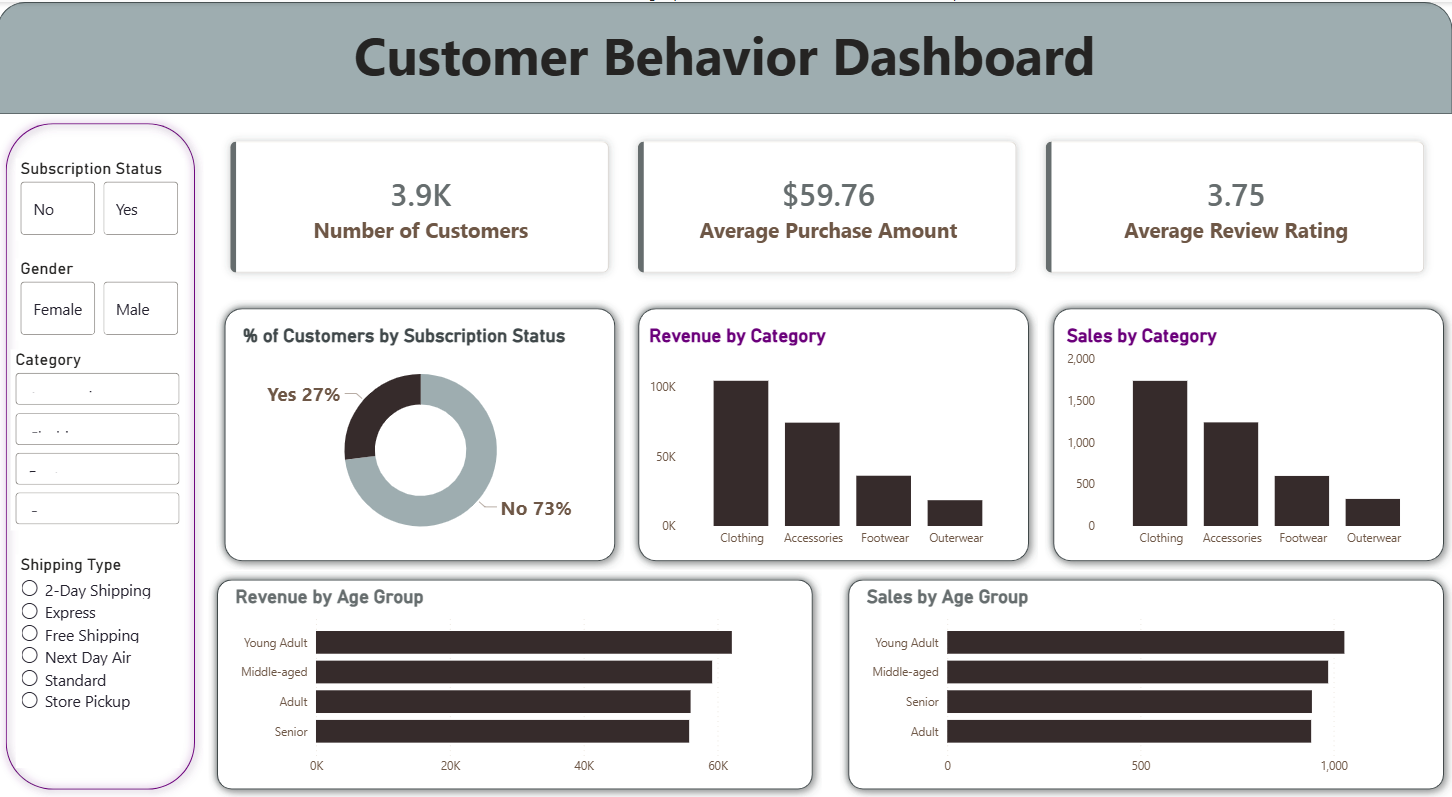

The dashboard page shown, as its layout file describes it:
{"tool":"powerbi","page":{"name":"Page 1","canvas":[1500,820],"ordinal":0},"visuals":[{"type":"cardVisual","fields":{"Data":["public customer.Number of Customers","public customer.Average Purchase Amount","public customer.Average Review Rating"]},"box":[212.9,115.3,1286.5,191.6],"z":2000},{"type":"shape","box":[218.3,585.6,631.7,234.2],"z":2500,"group":"g1"},{"type":"shape","box":[0,0,1499.4,115.3],"z":3000},{"type":"textbox","box":[0,12.4,1499.4,102.9],"z":4000},{"type":"shape","box":[225.4,307,420.5,278.6],"z":5000},{"type":"donutChart","title":"% of Customers by Subscription Status","fields":{"Category":["public customer.subscription_status"],"Y":["Sum(public customer.customer_id)"]},"box":[248.4,331.8,376.2,237.8],"z":6000},{"type":"shape","box":[1078.9,307,420.5,278.6],"z":7000},{"type":"shape","box":[652.1,307,420.5,278.6],"z":8000},{"type":"clusteredColumnChart","title":"Revenue by Category","fields":{"Y":["Sum(public customer.purchase_amount)"],"Category":["public customer.category"]},"box":[667.2,331.8,385.1,237.8],"z":9000},{"type":"clusteredColumnChart","title":"Sales by Category","fields":{"Y":["Sum(public customer.customer_id)"],"Category":["public customer.category"]},"box":[1096.6,331.8,385.1,237.8],"z":10000},{"type":"shape","box":[0,115.3,212.9,704.5],"z":11000},{"type":"advancedSlicerVisual","fields":{"Values":["public customer.subscription_status"]},"box":[19.5,161.5,173.9,85.2],"z":12000},{"type":"advancedSlicerVisual","fields":{"Values":["public customer.gender"]},"box":[19.5,264.4,173.9,85.2],"z":13000},{"type":"advancedSlicerVisual","fields":{"Values":["public customer.category"]},"box":[14.2,358.4,179.2,186.3],"z":14000},{"type":"listSlicer","fields":{"Values":["public customer.shipping_type"]},"box":[19.5,569.6,168.6,220],"z":15000},{"type":"shape","box":[867.7,585.6,631.7,234.2],"z":16000},{"type":"clusteredBarChart","title":"Sales by Age Group","fields":{"Y":["Sum(public customer.customer_id)"],"Category":["public customer.age_group"]},"box":[890.8,601.5,585.6,204.1],"z":17000},{"type":"clusteredBarChart","title":"Revenue by Age Group","fields":{"Y":["Sum(public customer.purchase_amount)"],"Category":["public customer.age_group"]},"box":[241.4,601.6,585.6,204.1],"z":17500,"group":"g1"},{"type":"group","id":"g1","title":"Group 1","box":[218.3,585.6,631.7,234.2],"z":17501}]}

Visuals, with their boxes in screenshot pixels (x1, y1, x2, y2), scaled from the page's 1500x820 canvas onto the 1452x797 screenshot:
cardVisual - public customer.Number of Customers x public customer.Average Purchase Amount: x1=206 y1=112 x2=1451 y2=298
shape: x1=211 y1=569 x2=823 y2=796
shape: x1=0 y1=0 x2=1451 y2=112
textbox: x1=0 y1=12 x2=1451 y2=112
shape: x1=218 y1=298 x2=625 y2=569
"% of Customers by Subscription Status" donutChart: x1=240 y1=322 x2=605 y2=554
shape: x1=1044 y1=298 x2=1451 y2=569
shape: x1=631 y1=298 x2=1038 y2=569
"Revenue by Category" clusteredColumnChart: x1=646 y1=322 x2=1019 y2=554
"Sales by Category" clusteredColumnChart: x1=1062 y1=322 x2=1434 y2=554
shape: x1=0 y1=112 x2=206 y2=796
advancedSlicerVisual - public customer.subscription_status: x1=19 y1=157 x2=187 y2=240
advancedSlicerVisual - public customer.gender: x1=19 y1=257 x2=187 y2=340
advancedSlicerVisual - public customer.category: x1=14 y1=348 x2=187 y2=529
listSlicer - public customer.shipping_type: x1=19 y1=554 x2=182 y2=767
shape: x1=840 y1=569 x2=1451 y2=796
"Sales by Age Group" clusteredBarChart: x1=862 y1=585 x2=1429 y2=783
"Revenue by Age Group" clusteredBarChart: x1=234 y1=585 x2=801 y2=783
"Group 1" group: x1=211 y1=569 x2=823 y2=796
